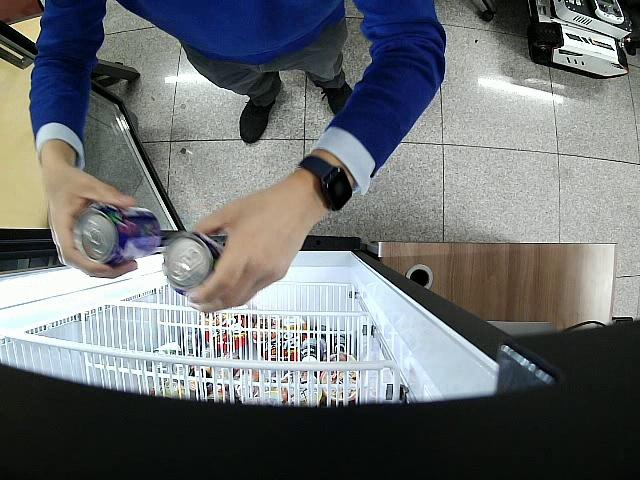00_hand: (186, 189, 322, 312), (40, 149, 139, 279)
14_welchsGrape: (74, 206, 161, 263), (161, 235, 223, 295)
